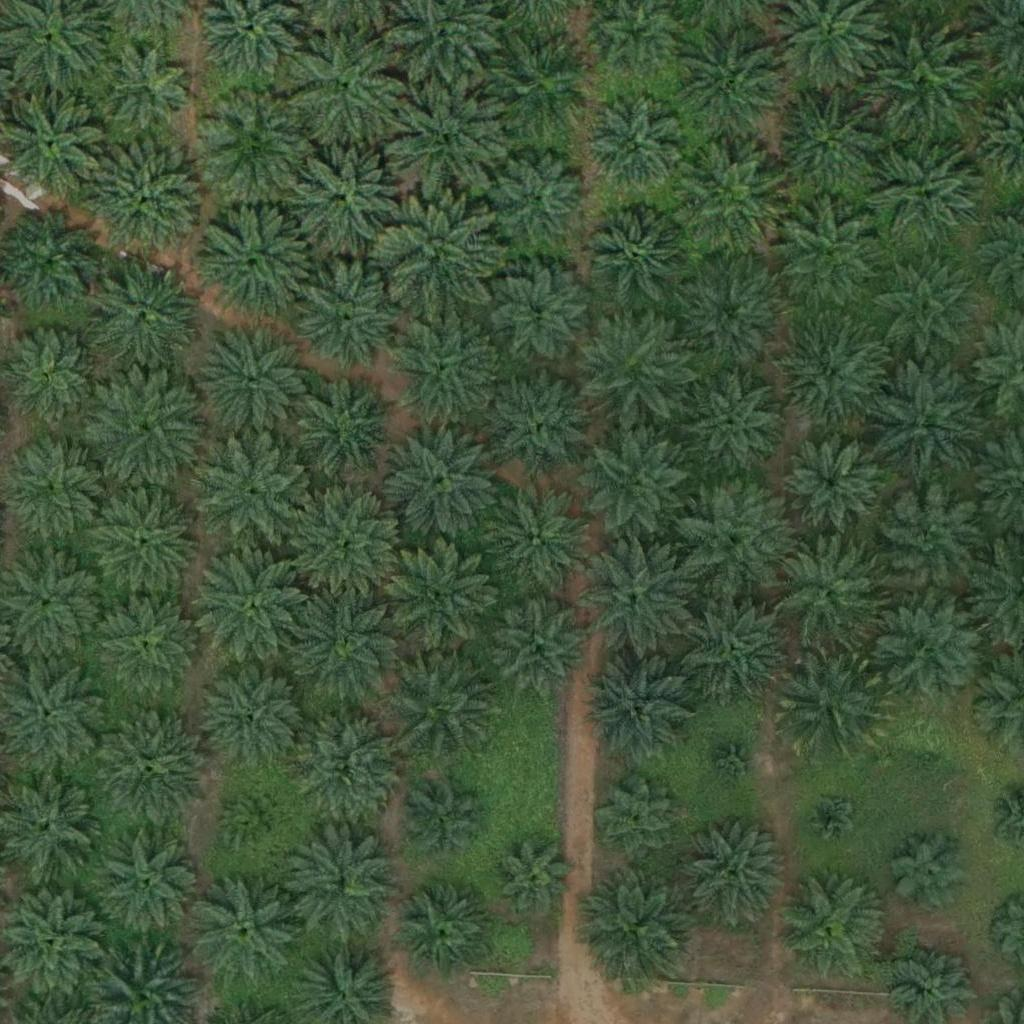Kelapa_Sawit: (676, 23, 789, 137), (774, 199, 887, 313), (867, 254, 980, 368), (869, 364, 982, 478), (777, 319, 890, 433), (291, 708, 404, 822), (197, 549, 310, 663), (90, 143, 203, 256), (200, 202, 313, 315), (388, 83, 501, 196), (382, 198, 495, 311), (773, 86, 886, 199), (873, 485, 986, 598), (581, 429, 694, 542), (581, 542, 694, 655), (584, 657, 697, 770), (479, 478, 592, 591), (295, 489, 408, 602), (289, 584, 402, 697), (196, 324, 309, 437), (200, 440, 313, 553), (87, 259, 200, 372), (92, 373, 205, 486), (189, 875, 302, 988), (285, 832, 398, 945), (584, 870, 697, 983), (677, 148, 789, 262), (93, 487, 205, 601), (776, 870, 888, 984), (775, 646, 887, 759), (199, 88, 311, 201), (293, 30, 405, 143), (291, 136, 403, 249), (484, 31, 596, 144), (673, 257, 785, 370), (863, 26, 975, 139), (871, 140, 983, 253), (878, 592, 990, 705), (773, 536, 885, 649), (673, 482, 785, 595), (677, 589, 789, 702), (576, 311, 688, 424), (388, 315, 500, 428), (385, 426, 497, 539), (390, 538, 502, 651), (389, 645, 501, 758), (295, 260, 407, 373), (95, 713, 207, 826), (677, 820, 789, 933), (98, 43, 198, 144), (488, 148, 588, 249), (490, 267, 590, 368), (590, 209, 690, 310), (782, 433, 882, 534), (684, 374, 784, 475), (490, 371, 590, 472), (491, 598, 591, 699), (300, 377, 400, 478), (100, 834, 200, 935), (585, 96, 685, 196), (205, 666, 305, 766), (98, 597, 198, 697), (4, 443, 104, 543), (400, 888, 488, 977), (596, 778, 683, 866), (887, 828, 974, 916), (409, 788, 484, 864), (495, 839, 570, 914), (226, 791, 288, 854), (711, 736, 761, 787), (805, 792, 855, 843), (902, 729, 952, 779)
